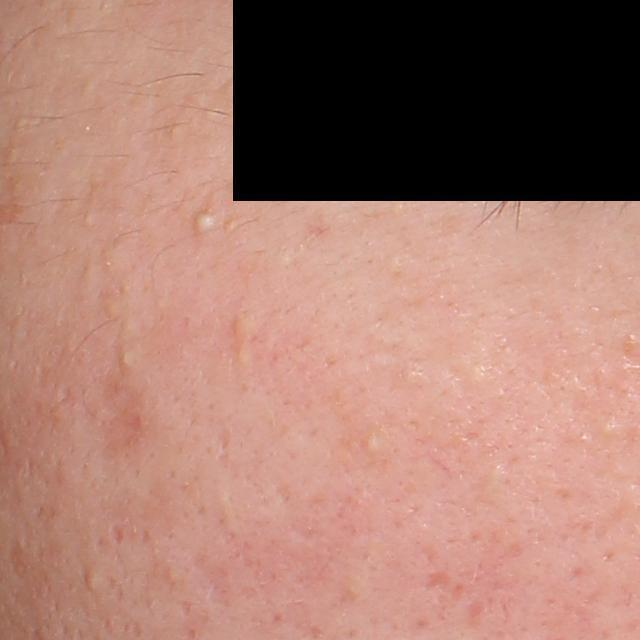atrophic_scar: (419, 568, 453, 597), (111, 521, 127, 544)
comedo: (81, 566, 104, 593)
other: (471, 463, 516, 515), (188, 209, 217, 237)
